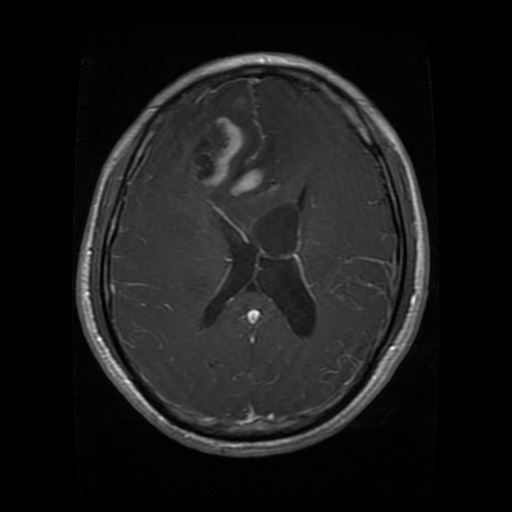glioma: (202, 195, 317, 332)
